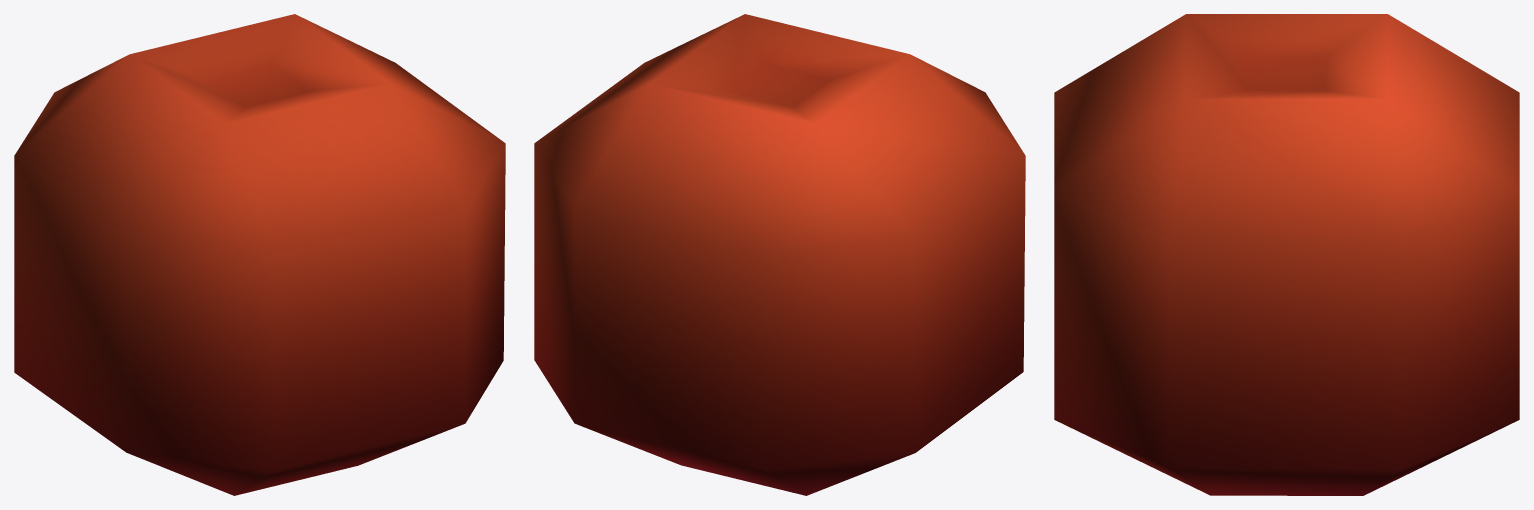
Rendered from tomato_cherry_no_leaf.fbx.
The picture shows the model from 3 angles, left to right: view 1: azimuth 30°, elevation 25°; view 2: azimuth 150°, elevation 25°; view 3: azimuth 270°, elevation 25°; orthographic projection. The views are drawn at different scales.
Parts seen in each view (by area): view 1: tomato_cherry_no_leaf; view 2: tomato_cherry_no_leaf; view 3: tomato_cherry_no_leaf.
Part boxes in pixels (box(x1,y1,x2,y2)): tomato_cherry_no_leaf: box(14, 14, 505, 495); tomato_cherry_no_leaf: box(534, 14, 1025, 495); tomato_cherry_no_leaf: box(1054, 14, 1519, 495).
Size of the model in its own units: 6.08 by 5.87 by 6.08.
